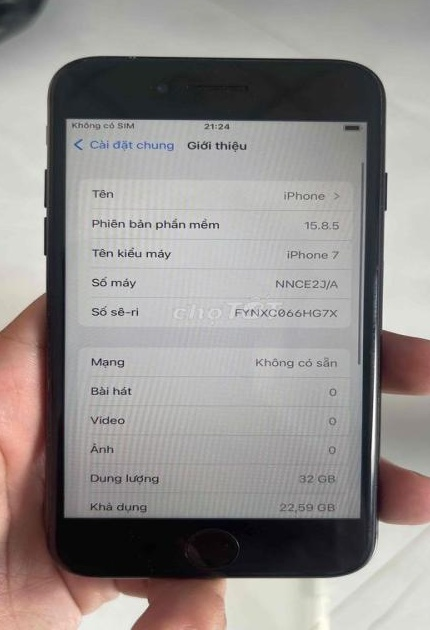scratch: (179, 525, 243, 572), (367, 252, 382, 357), (362, 489, 378, 563), (78, 53, 140, 63)
